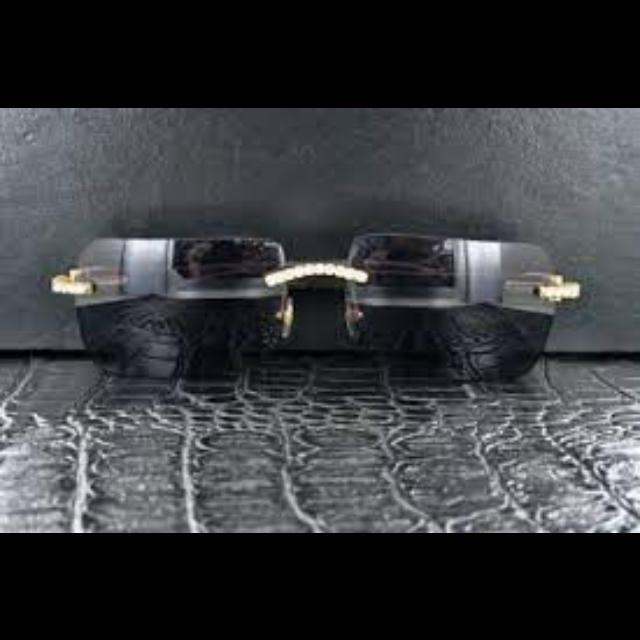glasses: (48, 235, 582, 388)
